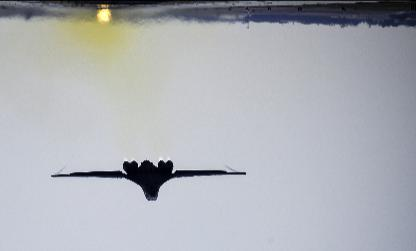AV8B: (51, 160, 247, 201)
